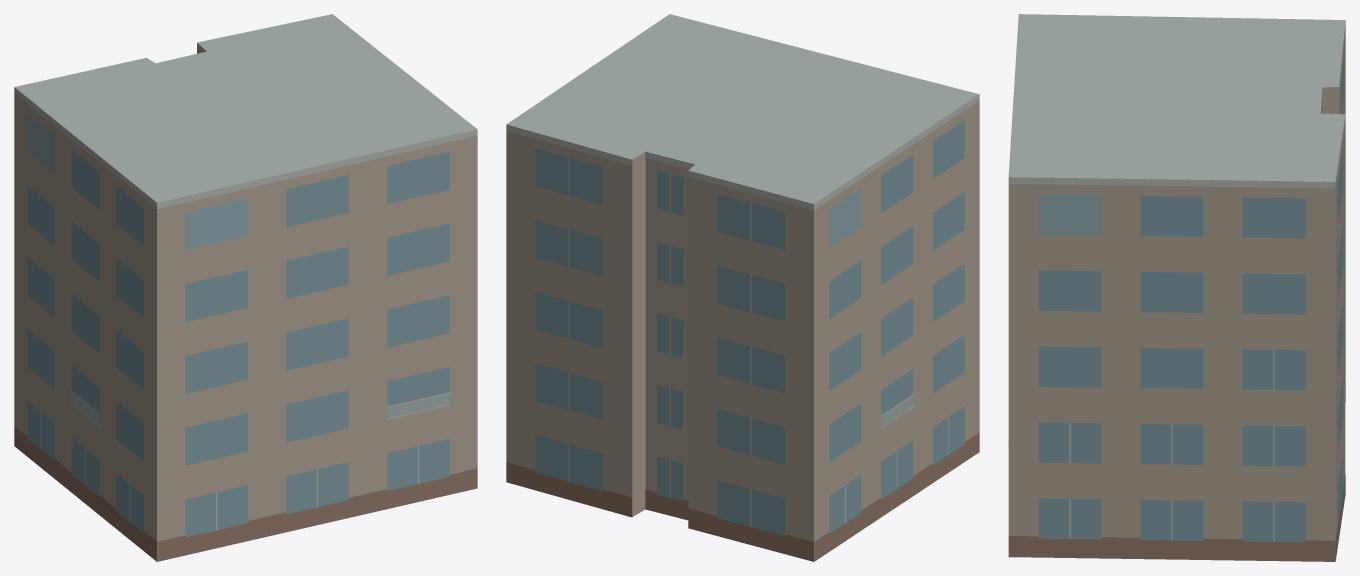
Rendered from survey-upis-32543015.glb.
3 views of the same model, side by side, from view 1: azimuth 30°, elevation 25°; view 2: azimuth 150°, elevation 25°; view 3: azimuth 270°, elevation 25° (orthographic). The views are drawn at different scales.
Visible parts, largest first — view 1: survey-upis-32543015.tmp; view 2: survey-upis-32543015.tmp; view 3: survey-upis-32543015.tmp.
Part boxes in pixels (x1,y1,x2,y2): survey-upis-32543015.tmp: (14,14,477,561); survey-upis-32543015.tmp: (506,14,979,561); survey-upis-32543015.tmp: (1008,14,1345,561).
Bounding box in the file's own units: 13.16 × 13.87 × 11.17.
